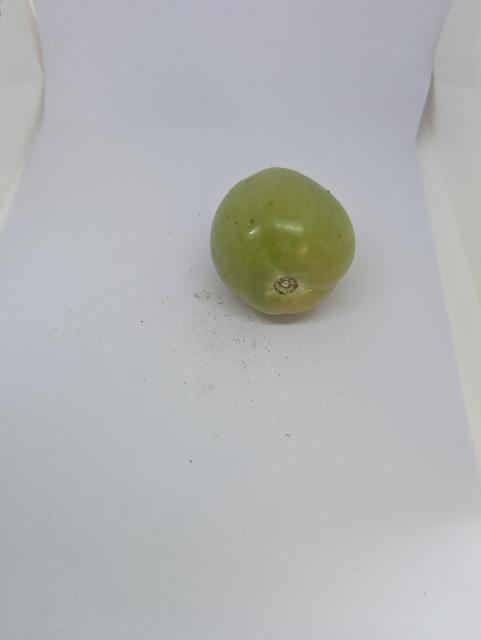green: (180, 151, 368, 332)
